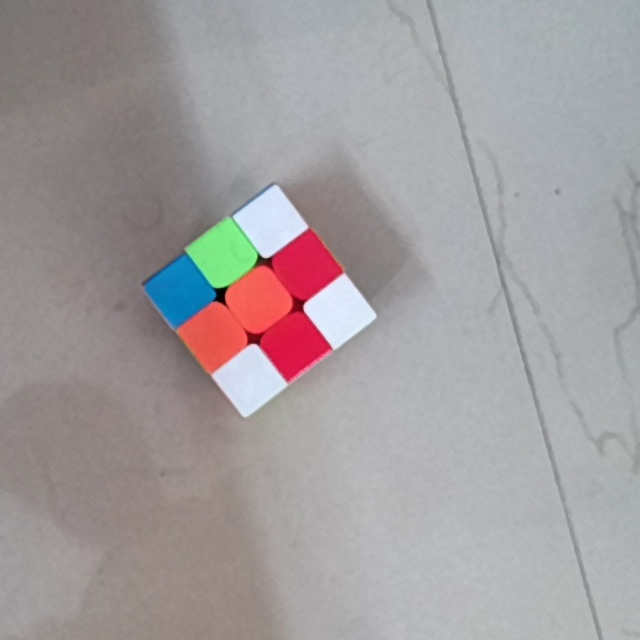tile: (284, 249, 323, 287), (253, 204, 291, 242), (163, 272, 199, 312), (197, 315, 232, 356), (241, 280, 277, 319), (206, 235, 241, 274), (276, 325, 311, 363), (232, 362, 269, 397), (323, 293, 357, 329)
